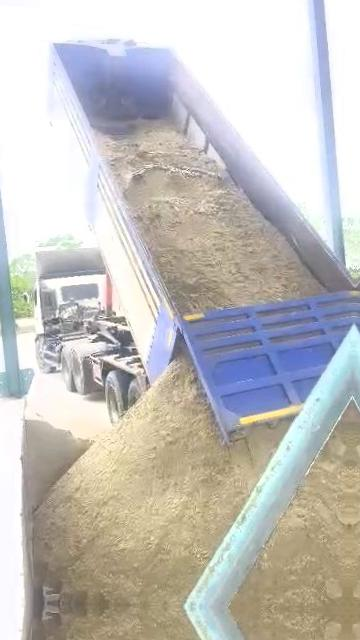sand: (35, 358, 286, 606), (98, 123, 324, 312), (235, 424, 352, 610), (24, 407, 89, 509)
